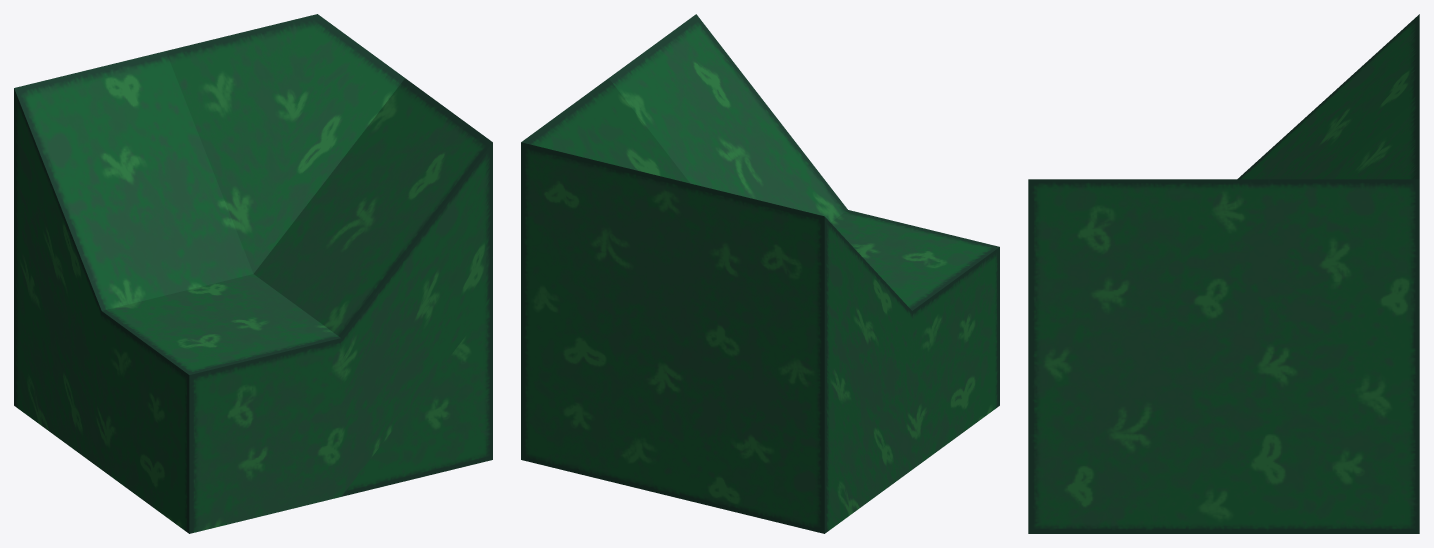
Rendered from 8_grass.obj.
The picture shows the model from 3 angles, left to right: view 1: azimuth 30°, elevation 25°; view 2: azimuth 150°, elevation 25°; view 3: azimuth 270°, elevation 25°; orthographic projection. The views are drawn at different scales.
Visible parts, largest first — view 1: 8_grass; view 2: 8_grass; view 3: 8_grass.
Boxes of the visible parts, box(x1,y1,x2,y2) form: 8_grass: box(14, 14, 492, 533); 8_grass: box(521, 14, 999, 533); 8_grass: box(1028, 14, 1419, 533).
Size of the model in its own units: 1 by 1 by 1.
1 material, 1 textured.
